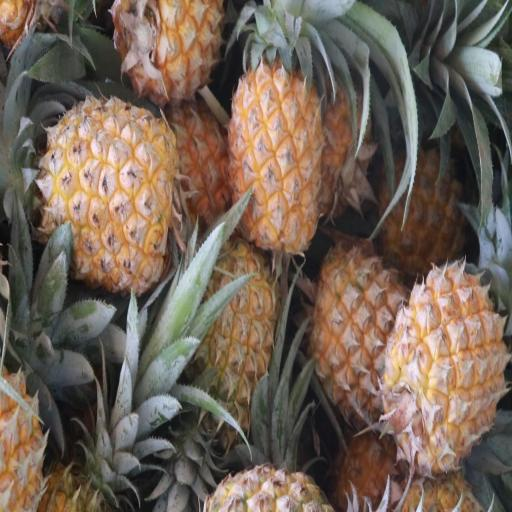------------------------------: (308, 248, 409, 425)
Pineapple - v8 v1: (47, 100, 174, 290), (390, 264, 505, 463), (232, 65, 325, 257), (190, 246, 273, 422), (117, 0, 221, 99), (379, 147, 462, 271)
